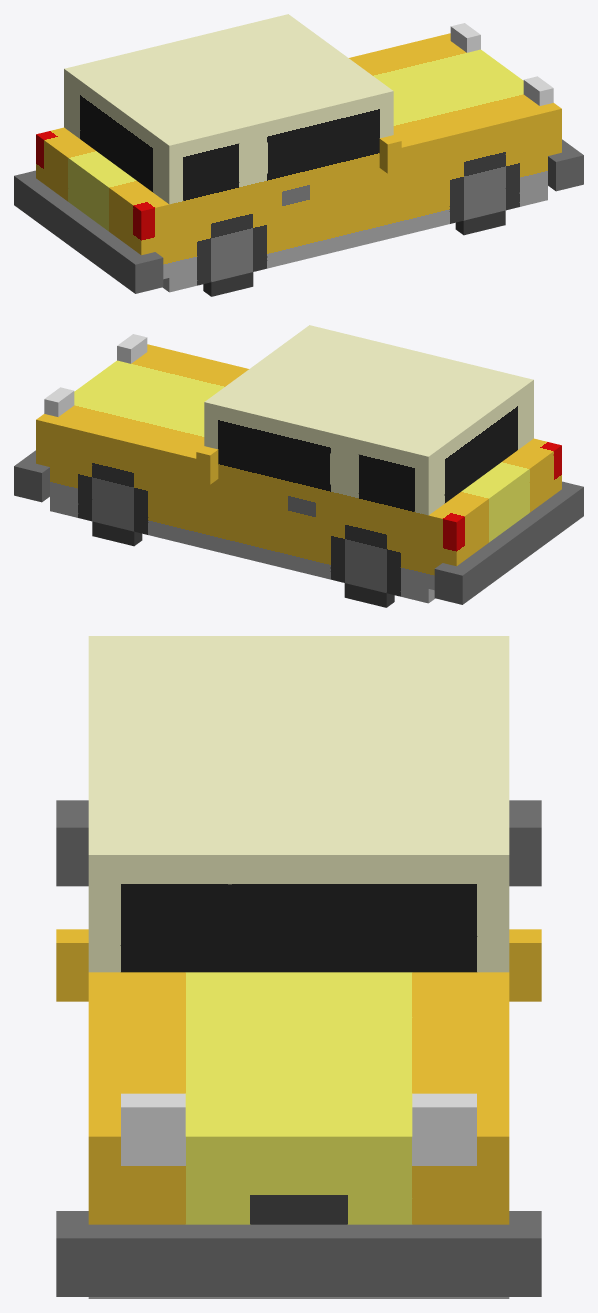
File: veh_wagon3.fbx
The picture shows the model from 3 angles, top to bottom: view 1: azimuth 30°, elevation 25°; view 2: azimuth 150°, elevation 25°; view 3: azimuth 270°, elevation 25°; orthographic projection. The views are drawn at different scales.
Parts seen in each view (by area): view 1: veh_wagon3; view 2: veh_wagon3; view 3: veh_wagon3.
Boxes of the visible parts, left/top/right/bottom form: veh_wagon3: left=14, top=14, right=583, bottom=296; veh_wagon3: left=14, top=325, right=583, bottom=607; veh_wagon3: left=56, top=636, right=541, bottom=1298.
Bounding box in the file's own units: 3.2 × 1.5 × 1.1.
1 material, 1 textured.
